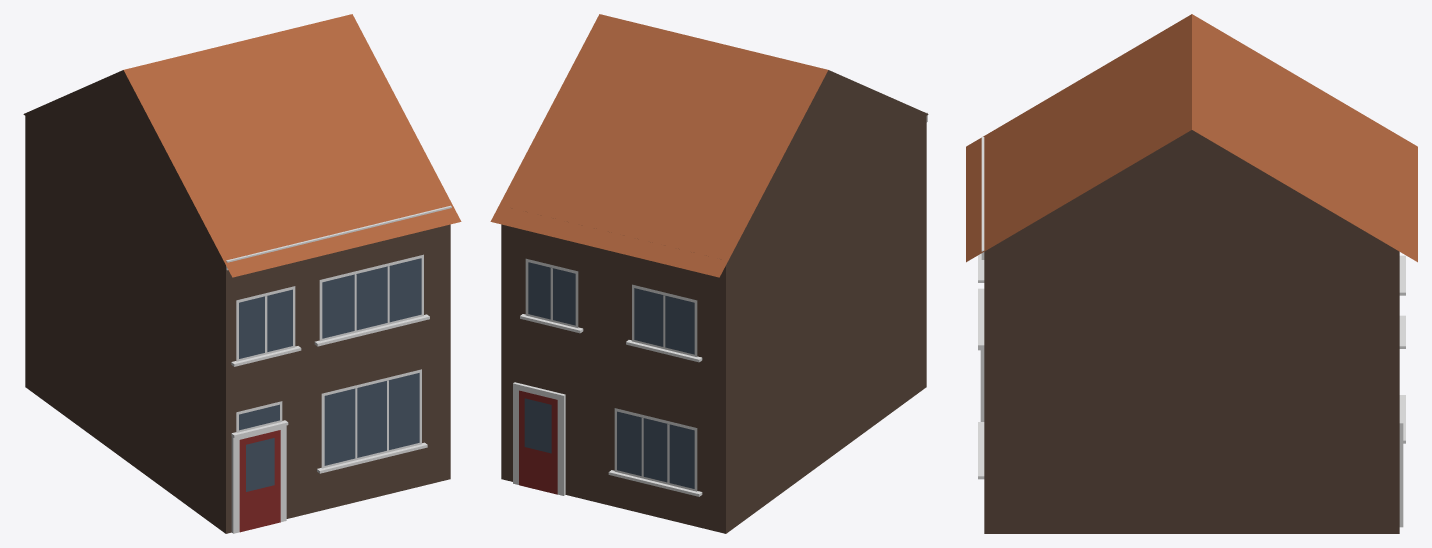
The model's file is nd-to-row__wide-orange__2__gable__long__solid__f0d0.glb.
3 views of the same model, side by side, from view 1: azimuth 30°, elevation 25°; view 2: azimuth 150°, elevation 25°; view 3: azimuth 270°, elevation 25° (orthographic). The views are drawn at different scales.
Parts seen in each view (by area): view 1: nd-to-row__wide-orange__2__gable__long__solid__f0d0; view 2: nd-to-row__wide-orange__2__gable__long__solid__f0d0; view 3: nd-to-row__wide-orange__2__gable__long__solid__f0d0.
Part boxes in pixels (x1=…): nd-to-row__wide-orange__2__gable__long__solid__f0d0: x1=23, y1=14, x2=461, y2=533; nd-to-row__wide-orange__2__gable__long__solid__f0d0: x1=490, y1=14, x2=928, y2=533; nd-to-row__wide-orange__2__gable__long__solid__f0d0: x1=966, y1=14, x2=1417, y2=533.
Bounding box in the file's own units: 5.31 × 8.66 × 8.75.
